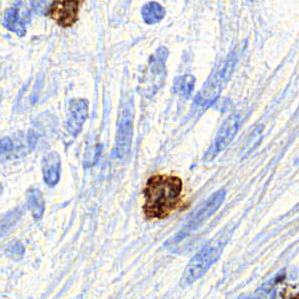Lymphocyte: (143, 173, 185, 216)
